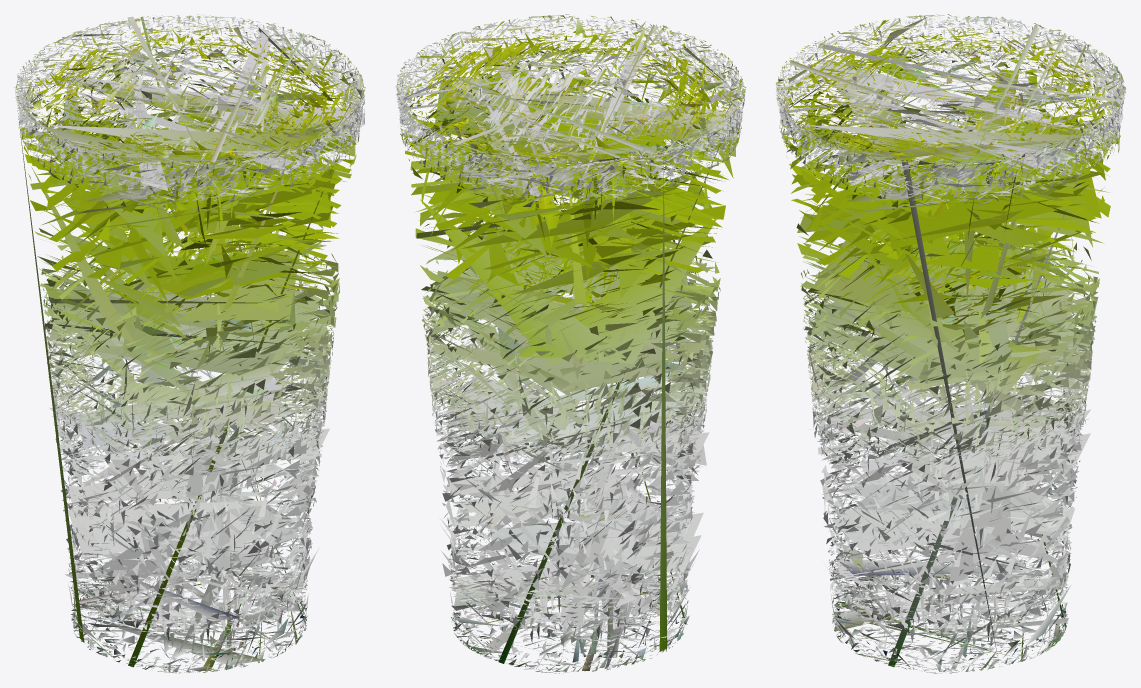
The model's file is matche_latte_52505.glb.
3 renders of one model, left to right at view 1: azimuth 30°, elevation 25°; view 2: azimuth 150°, elevation 25°; view 3: azimuth 270°, elevation 25°, orthographic.
Parts seen in each view (by area): view 1: Ref; view 2: Ref; view 3: Ref.
Part boxes in pixels (bbox=[...]): Ref: bbox=[14, 14, 365, 673]; Ref: bbox=[395, 14, 745, 673]; Ref: bbox=[775, 14, 1126, 673].
Size of the model in its own units: 1.06 by 1.79 by 1.06.
